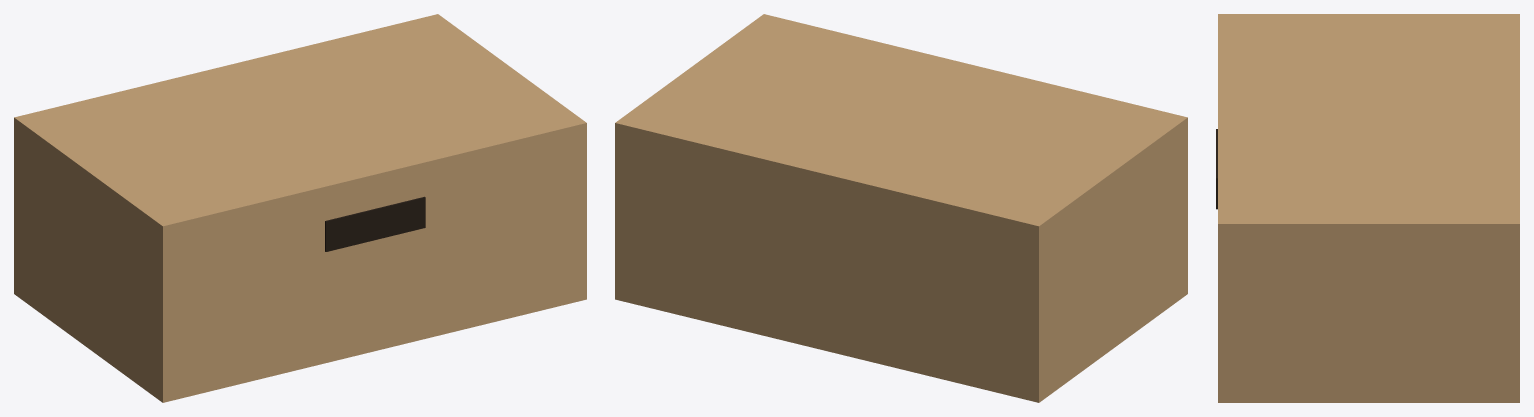
File: applebox.glb
The picture shows the model from 3 angles, left to right: view 1: azimuth 30°, elevation 25°; view 2: azimuth 150°, elevation 25°; view 3: azimuth 270°, elevation 25°; orthographic projection.
Size of the model in its own units: 0.51 by 0.203 by 0.312.
